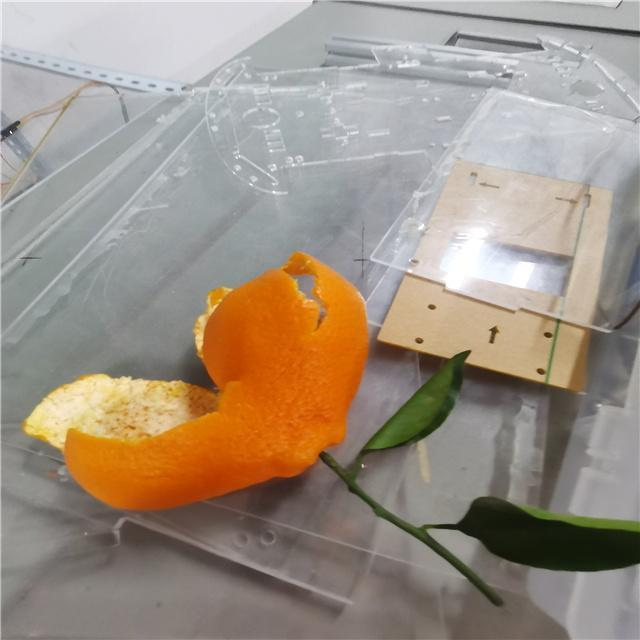orange peel: (23, 250, 370, 512)
